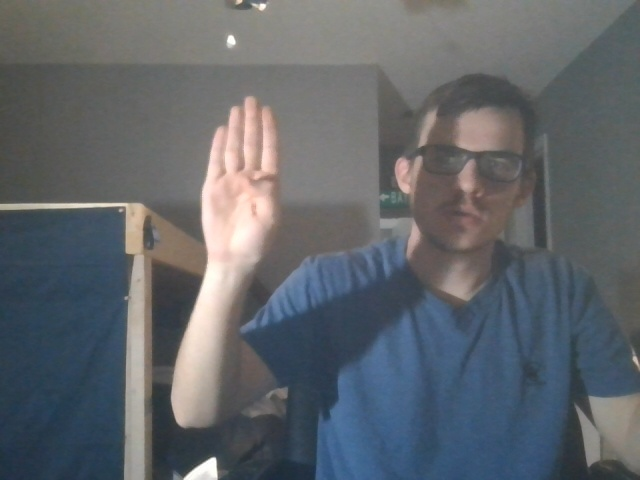B: (189, 93, 293, 271)
